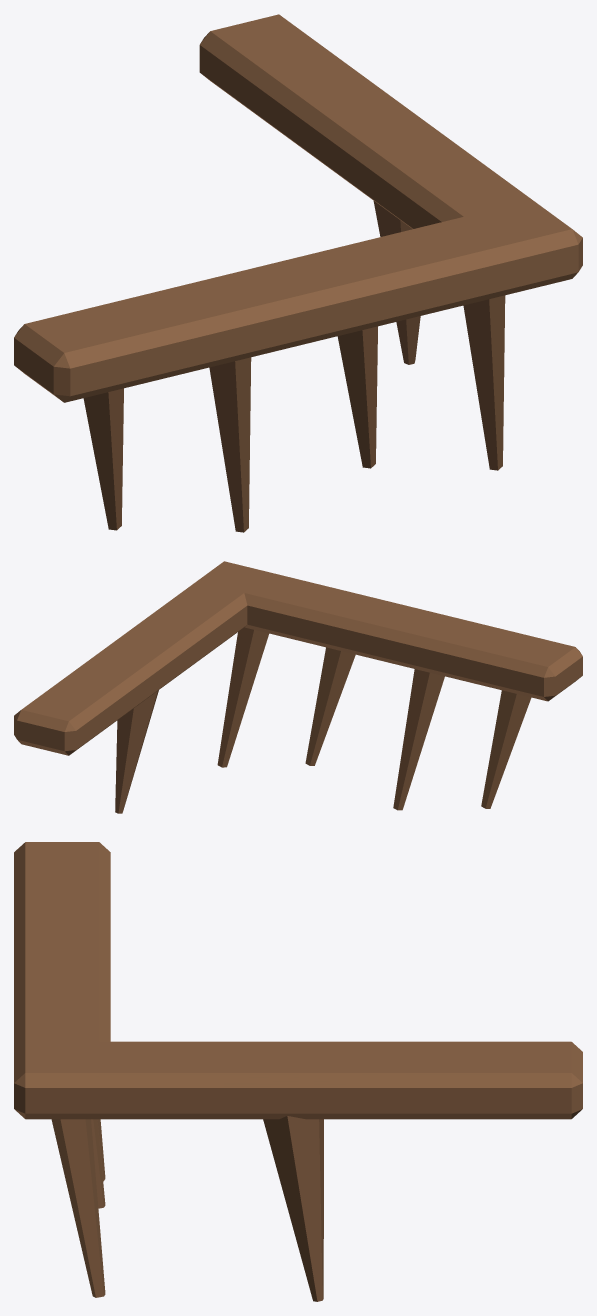
File: beira_canto.glb
The picture shows the model from 3 angles, top to bottom: view 1: azimuth 30°, elevation 25°; view 2: azimuth 150°, elevation 25°; view 3: azimuth 270°, elevation 25°; orthographic projection. The views are drawn at different scales.
Parts seen in each view (by area): view 1: bosque_beira_canto; view 2: bosque_beira_canto; view 3: bosque_beira_canto.
Boxes of the visible parts, left/top/right/bottom form: bosque_beira_canto: left=14, top=14, right=582, bottom=532; bosque_beira_canto: left=14, top=561, right=582, bottom=813; bosque_beira_canto: left=14, top=842, right=582, bottom=1301.
Bounding box in the file's own units: 1 × 0.4671 × 1.
